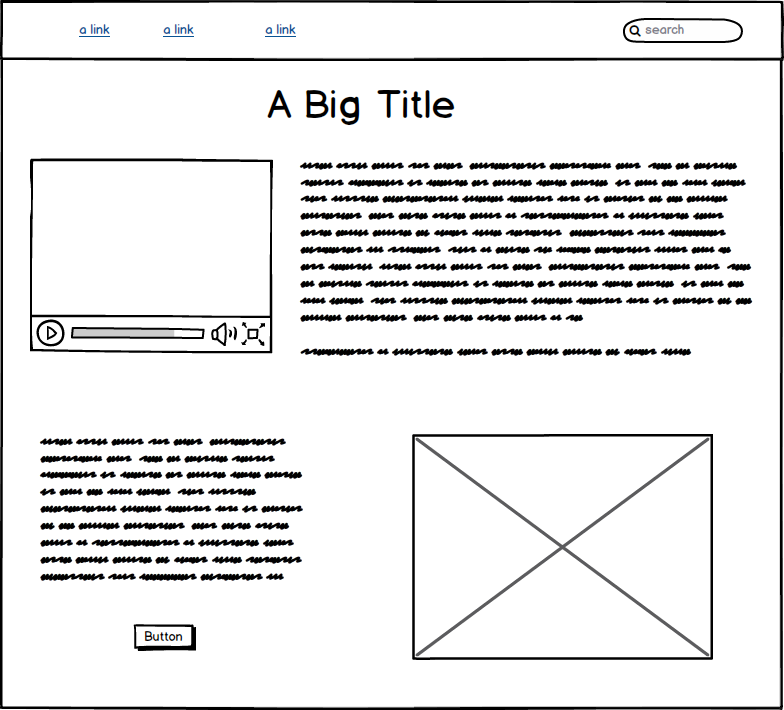button: (128, 621, 208, 656)
h1: (260, 76, 469, 131)
image: (405, 427, 719, 666)
navlink: (72, 14, 118, 46), (256, 19, 310, 40), (159, 19, 199, 43)
p: (296, 159, 762, 361), (36, 436, 309, 593)
video: (24, 153, 278, 359)
